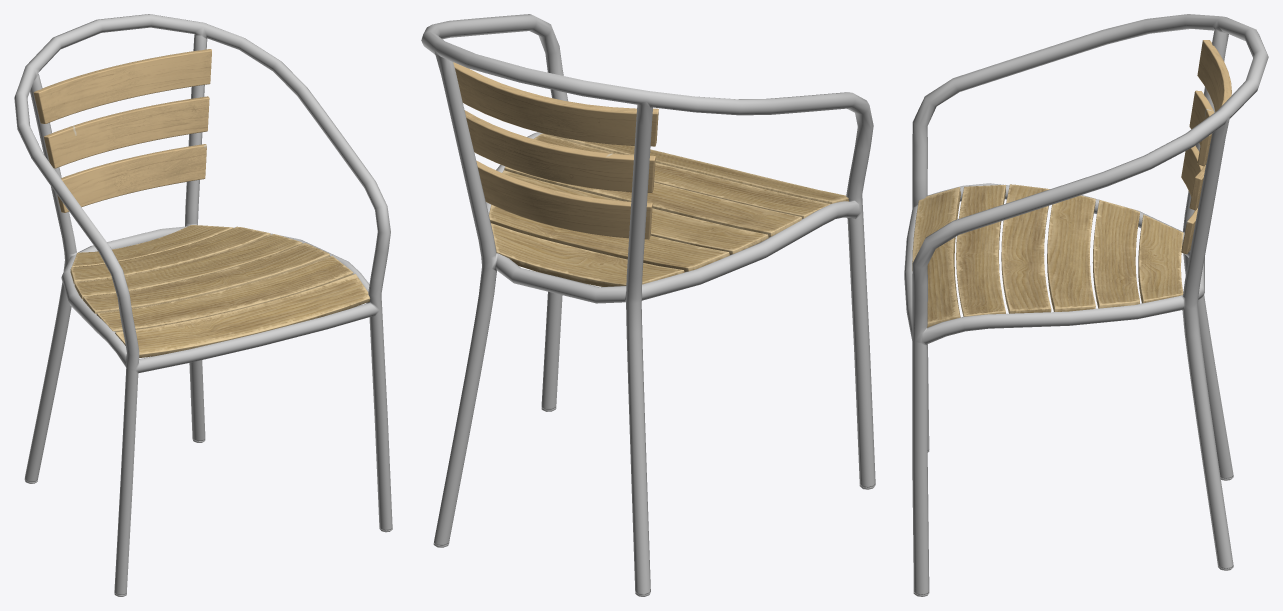
File: chair.fbx
The picture shows the model from 3 angles, left to right: view 1: azimuth 30°, elevation 25°; view 2: azimuth 150°, elevation 25°; view 3: azimuth 270°, elevation 25°; orthographic projection. The views are drawn at different scales.
Visible parts, largest first — view 1: frame_with_legs, seat, back_cross_rails; view 2: frame_with_legs, seat, back_cross_rails; view 3: frame_with_legs, seat, back_cross_rails.
Part boxes in pixels (x1,y1,x2,y2): frame_with_legs: (14,14,392,596); seat: (70,225,369,358); back_cross_rails: (33,49,211,212); frame_with_legs: (421,14,875,596); seat: (489,133,848,286); back_cross_rails: (453,62,658,239); frame_with_legs: (904,14,1268,596); seat: (912,184,1183,327); back_cross_rails: (1181,40,1231,254).
Bounding box in the file's own units: 57.7 × 85.64 × 59.88.
